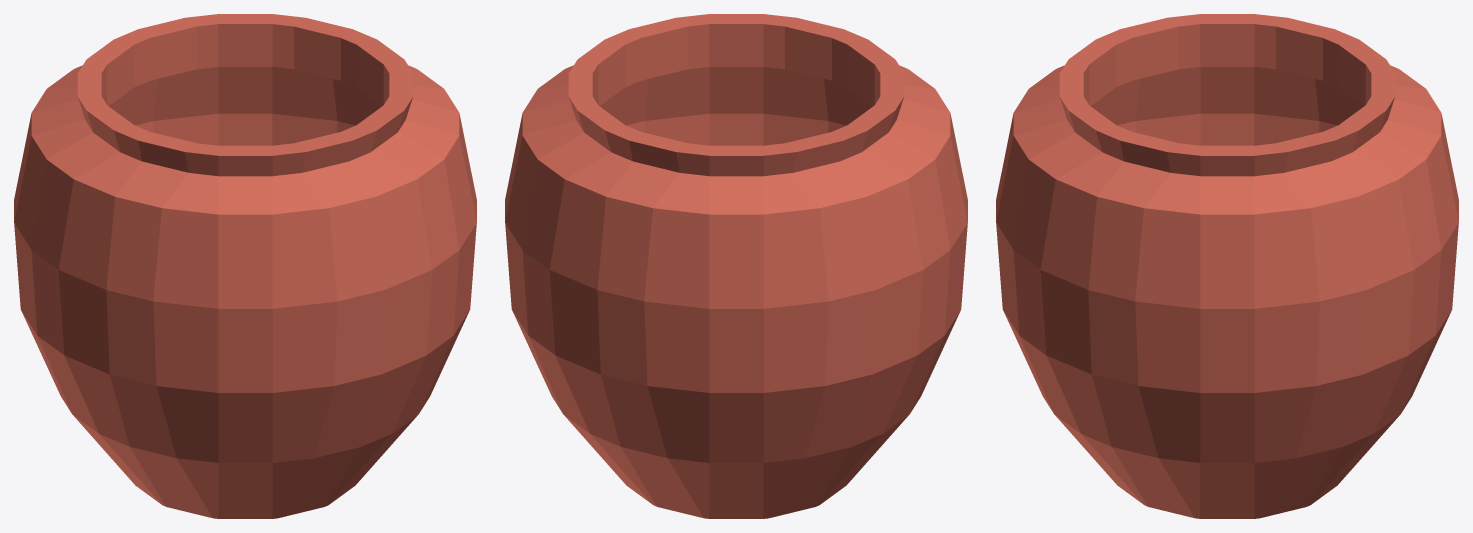
File: l3House Only Oong.glb
The picture shows the model from 3 angles, left to right: view 1: azimuth 30°, elevation 25°; view 2: azimuth 150°, elevation 25°; view 3: azimuth 270°, elevation 25°; orthographic projection.
Parts seen in each view (by area): view 1: Oong; view 2: Oong; view 3: Oong.
Boxes of the visible parts, x1,y1,x2,y2 form: Oong: [14, 14, 476, 518]; Oong: [505, 14, 967, 518]; Oong: [996, 14, 1458, 518].
Size of the model in its own units: 0.7178 by 0.6623 by 0.7178.
